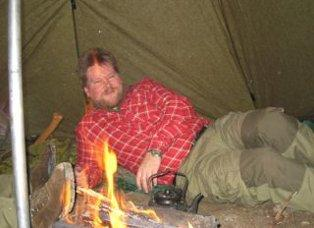fire: (60, 139, 160, 228)
